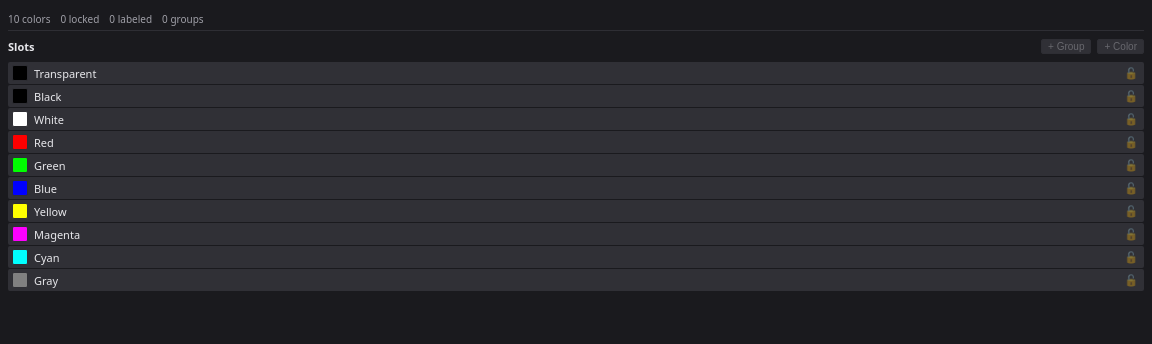
Test case: PalettePropsPanel › add group button creates a group
The width and height of the screenshot is (1152, 344).
Click the button with test id "palette-add-group" at (1066, 47), box [1041,39,1092,54]
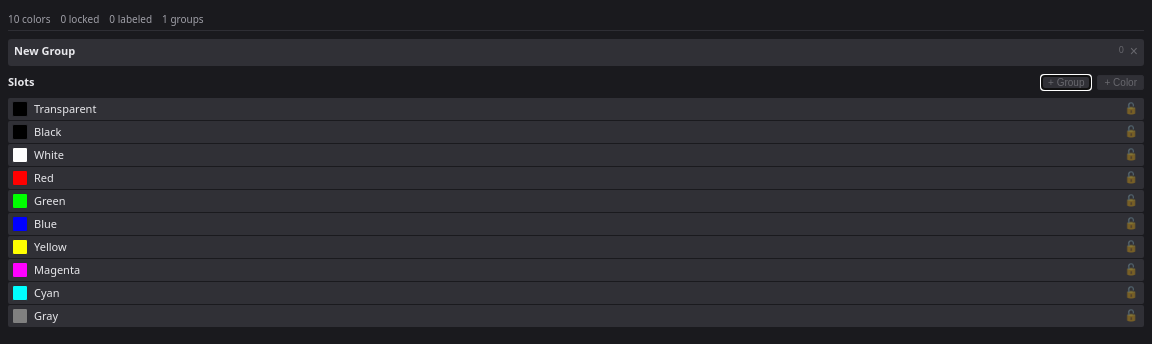
Expected: the text "New Group" is shown, [14,43,75,58]
